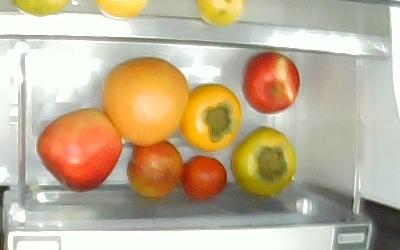apple: (34, 105, 122, 192), (240, 51, 300, 113)
grapefruit: (100, 55, 190, 146)
persimmon: (229, 124, 295, 199), (179, 82, 242, 151)
prune: (125, 139, 184, 198), (180, 154, 227, 201)
